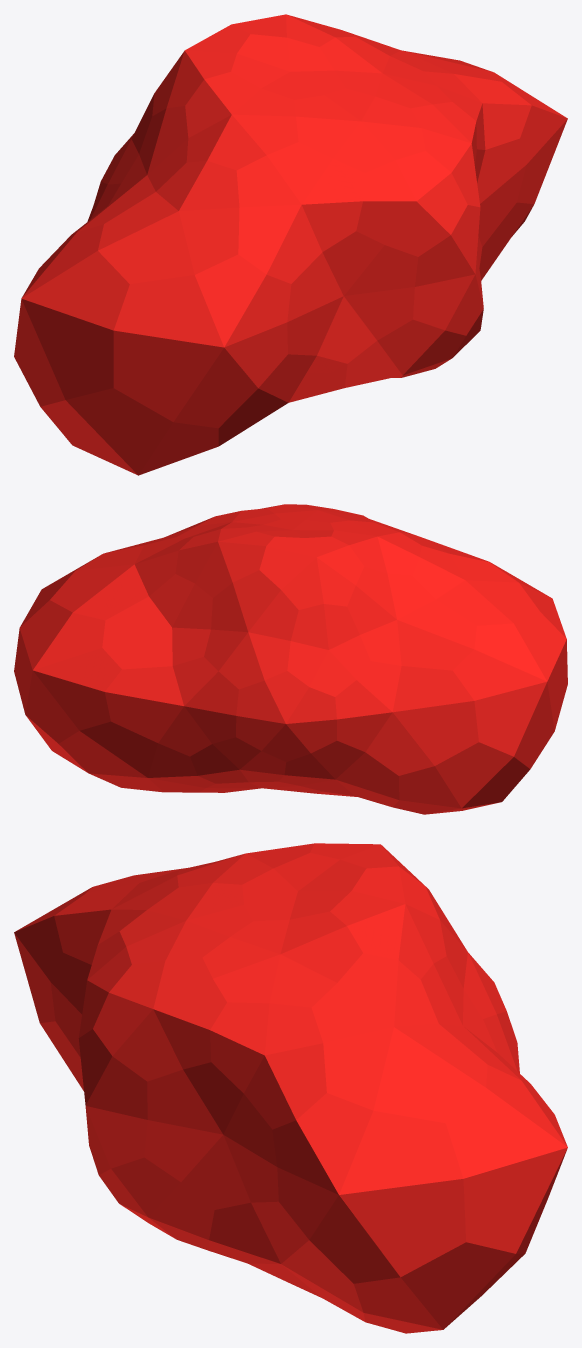
The model's file is Red Storm Cloud.fbx.
3 views of the same model, one above another, from view 1: azimuth 30°, elevation 25°; view 2: azimuth 150°, elevation 25°; view 3: azimuth 270°, elevation 25° (orthographic). The views are drawn at different scales.
Parts seen in each view (by area): view 1: Cloud1; view 2: Cloud1; view 3: Cloud1.
Boxes of the visible parts, left/top/right/bottom form: Cloud1: left=14, top=14, right=567, bottom=475; Cloud1: left=14, top=504, right=567, bottom=814; Cloud1: left=14, top=843, right=567, bottom=1333.
Size of the model in its own units: 291 by 163 by 216.
